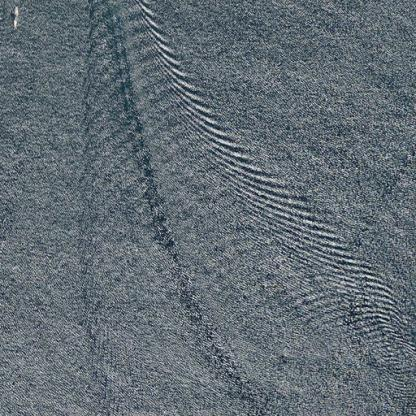ship: (6, 1, 23, 35)
